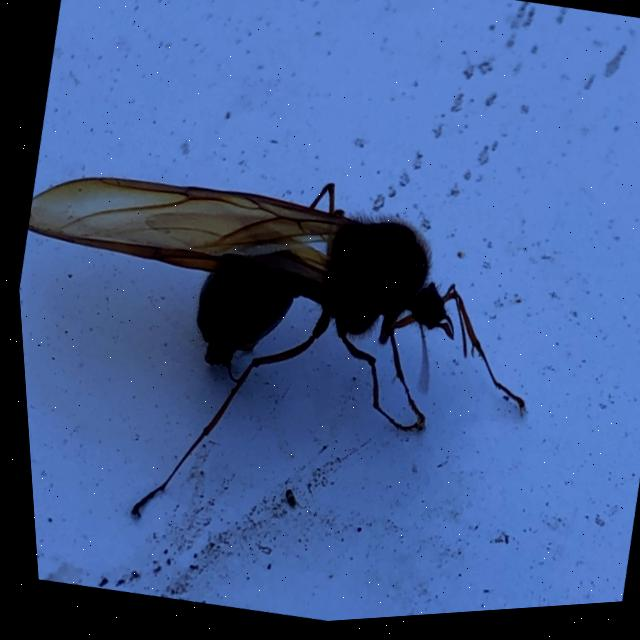Alive-Male-Alate: (7, 112, 571, 602)
